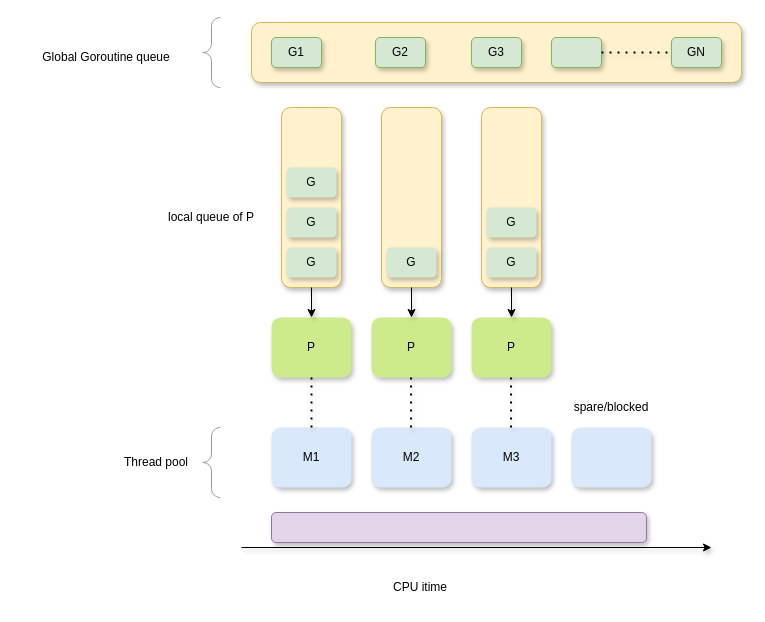
Some shapes in this 765 by 622 pixel diagram are drawn without their labels. Each missing label, with the centre of its shape:
"G4" belongs at (x=577, y=53).
"kernel scheduler" belongs at (x=459, y=529).
"M4" belongs at (x=612, y=458).
